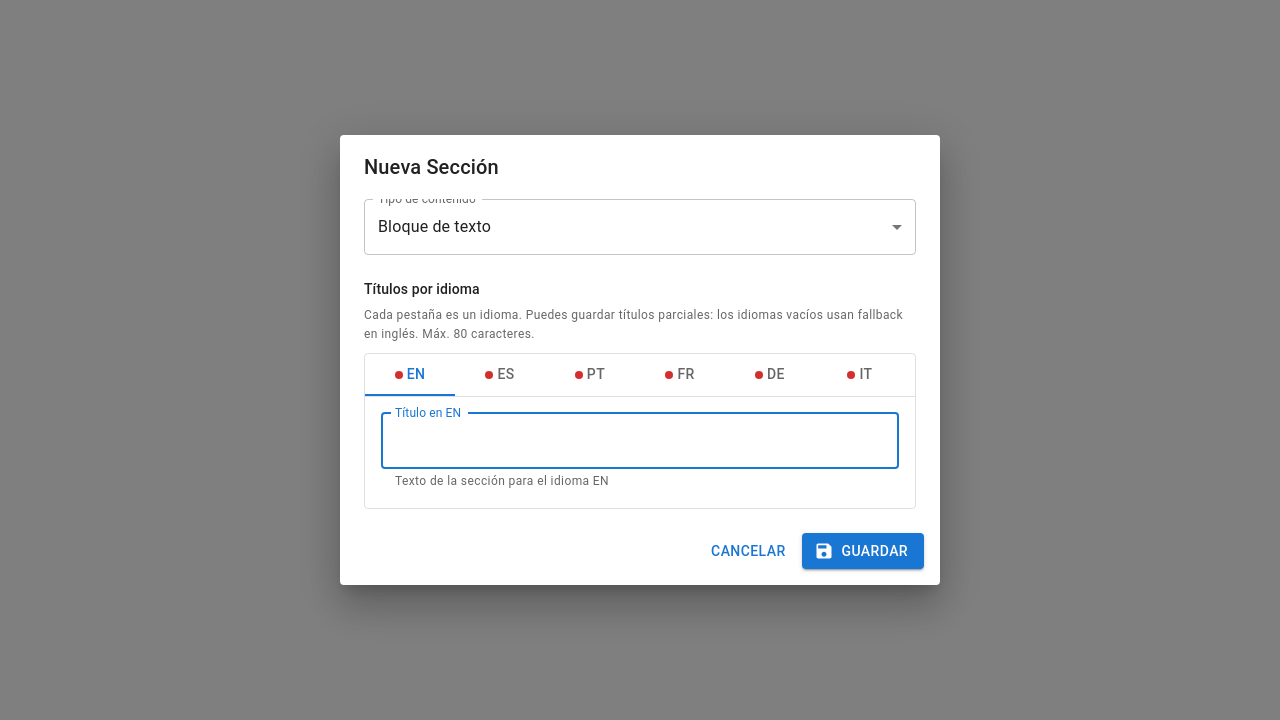
Scenario: SectionDialog › requires at least one title before saving
Click the button "Guardar": x=863, y=551 [802, 533, 924, 569]
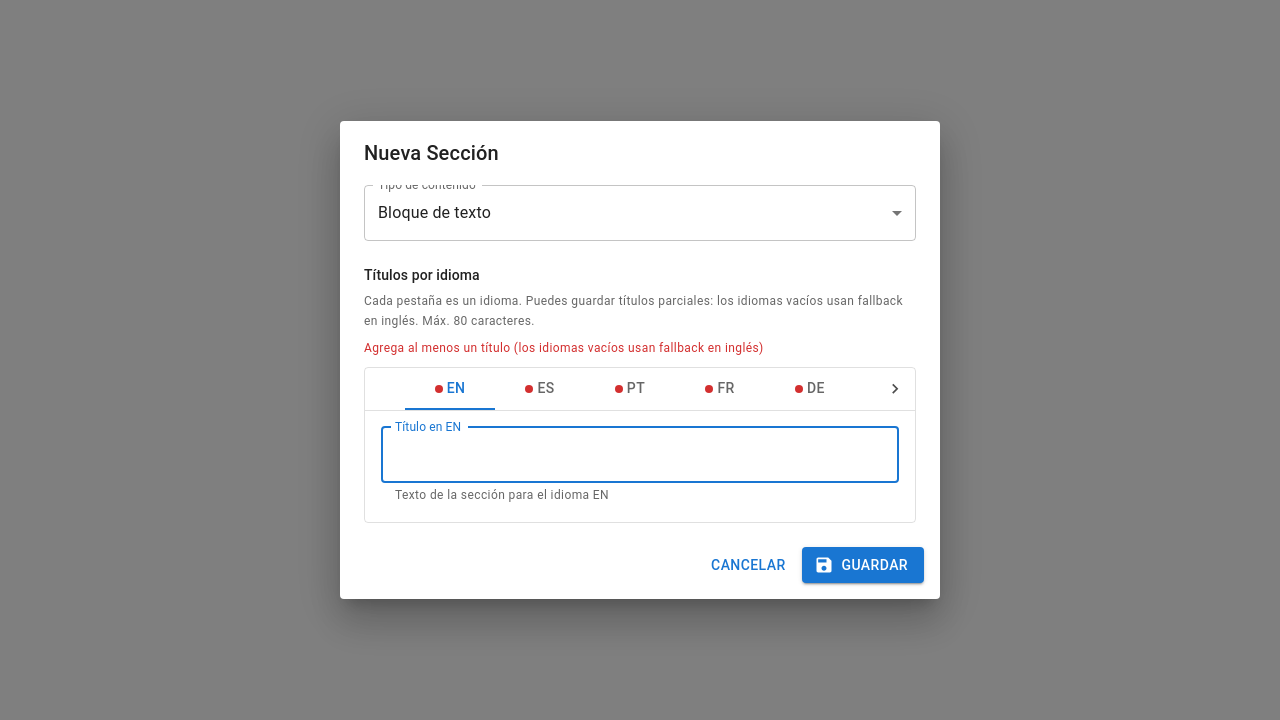
Check: the text "al menos un título" is shown, box [364, 341, 764, 355]
